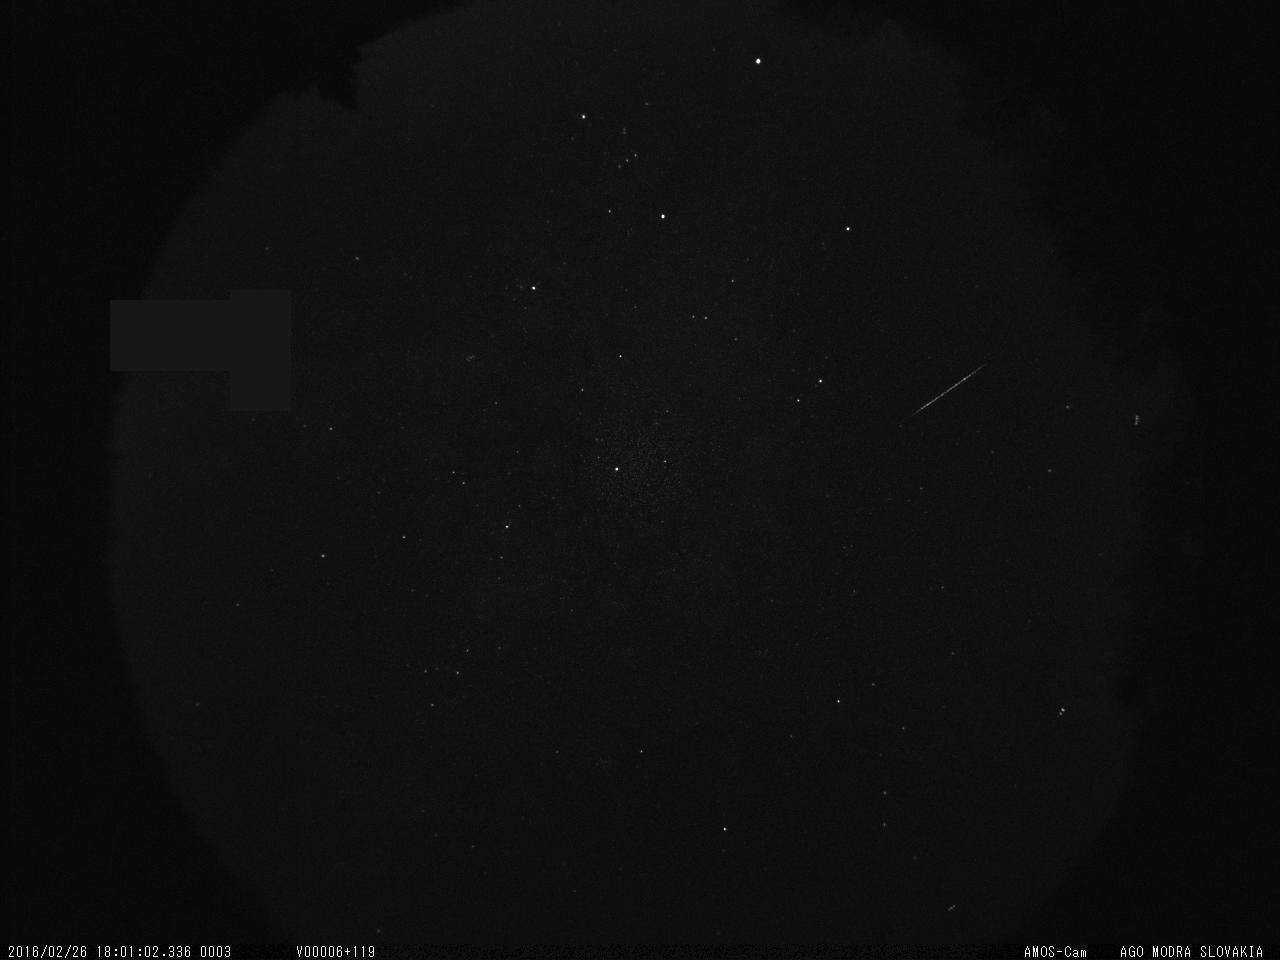meteor: (882, 359, 1023, 431)
